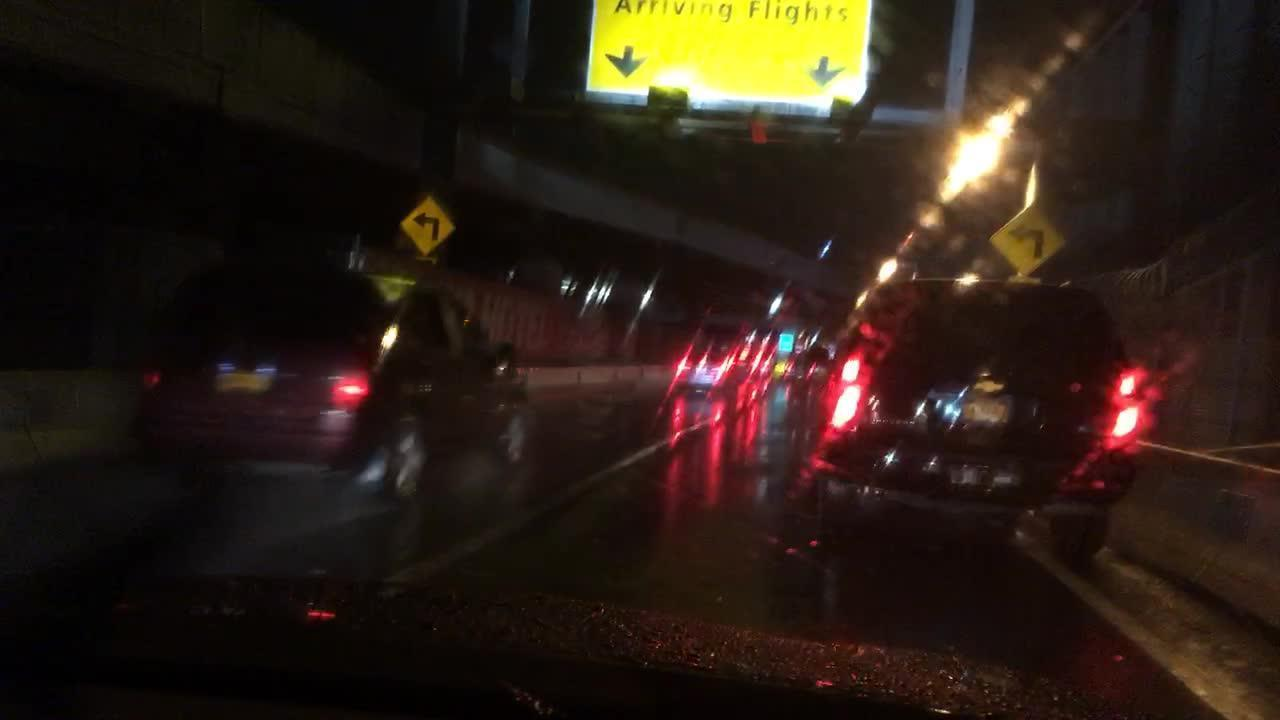chevrolet: (963, 369, 1017, 398)
